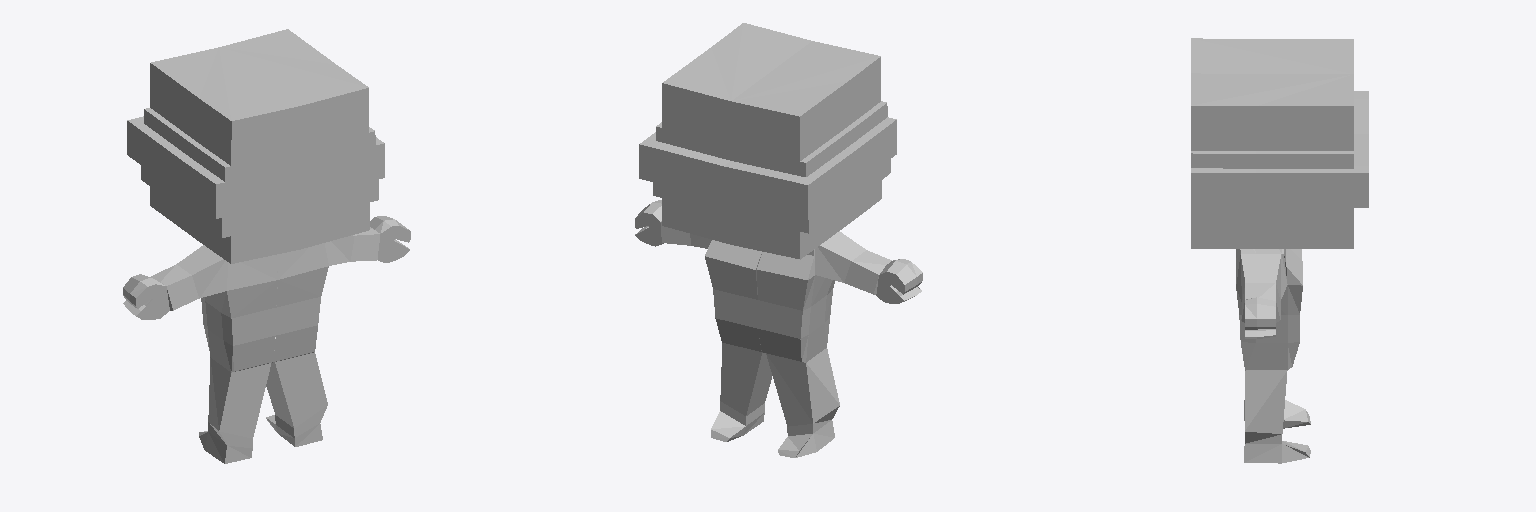
The model's file is Soldierfixed.obj.
The picture shows the model from 3 angles: view 1: azimuth 30°, elevation 25°; view 2: azimuth 150°, elevation 25°; view 3: azimuth 270°, elevation 25°; orthographic projection.
Parts seen in each view (by area): view 1: Soldier_Cube.002; view 2: Soldier_Cube.002; view 3: Soldier_Cube.002.
Boxes of the visible parts, x1=… form: Soldier_Cube.002: x1=123, y1=29, x2=410, y2=463; Soldier_Cube.002: x1=635, y1=23, x2=922, y2=457; Soldier_Cube.002: x1=1191, y1=38, x2=1368, y2=463.
Bounding box in the file's own units: 2.54 × 3.25 × 1.42.